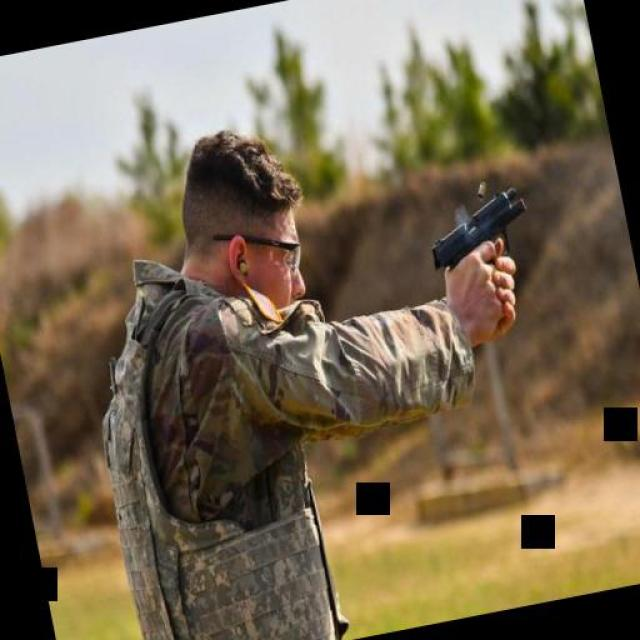gun: (421, 182, 540, 298)
